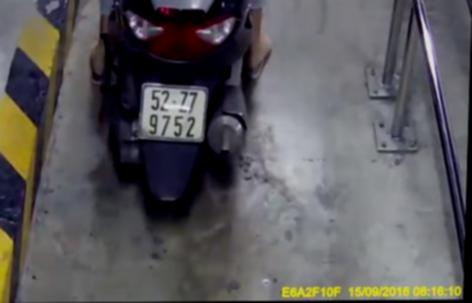License_Plate: (133, 77, 214, 150)
